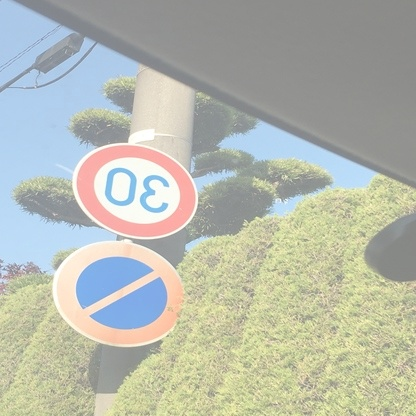Prohibition_sign: (57, 237, 201, 357)
Speed_sign: (68, 139, 207, 251)
